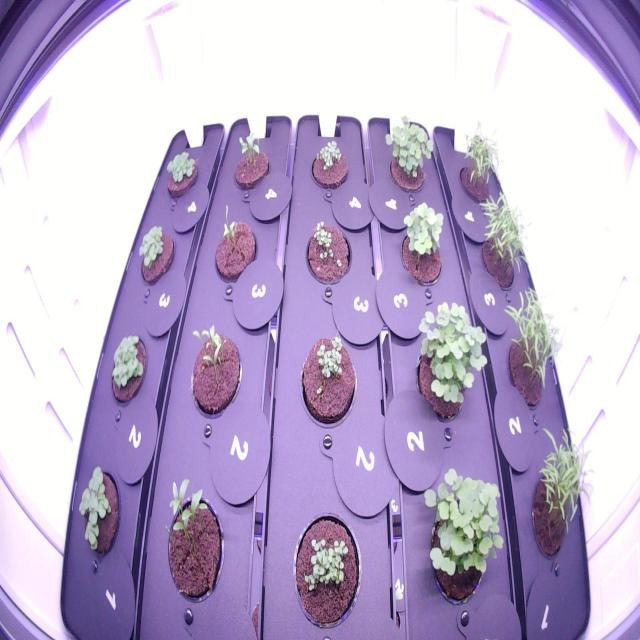germination: (418, 458, 506, 610), (408, 297, 492, 435), (520, 417, 598, 564), (156, 470, 230, 614), (288, 506, 365, 632), (501, 280, 566, 418), (182, 319, 246, 427), (295, 329, 361, 432), (74, 451, 128, 569), (474, 186, 531, 290), (395, 202, 453, 292), (207, 197, 261, 291), (300, 213, 355, 296), (383, 114, 439, 195), (454, 127, 504, 210), (105, 324, 151, 411), (132, 217, 180, 291), (228, 126, 273, 196), (304, 135, 352, 193), (158, 143, 204, 202)
